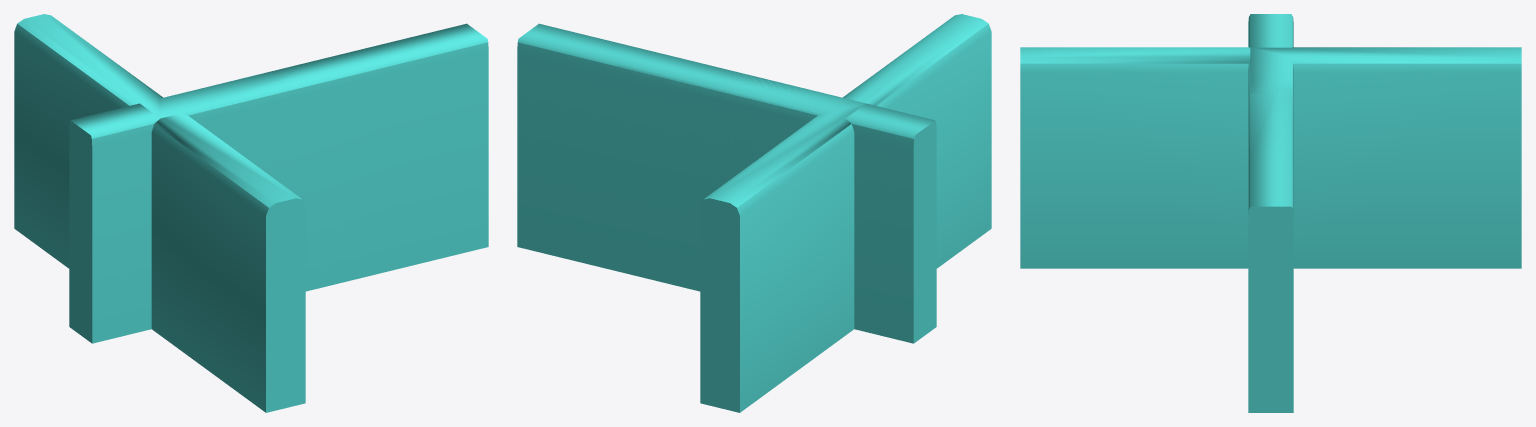
The model's file is fence0.fbx.
3 views of the same model, side by side, from view 1: azimuth 30°, elevation 25°; view 2: azimuth 150°, elevation 25°; view 3: azimuth 270°, elevation 25° (orthographic).
Visible parts, largest first — view 1: Cube.001, Cube, Cube.002; view 2: Cube, Cube.002, Cube.001; view 3: Cube.001, Cube.002, Cube.
Boxes of the visible parts, x1,y1,x2,y2 form: Cube.001: (151, 48, 389, 412); Cube: (69, 23, 488, 343); Cube.002: (14, 14, 387, 290); Cube: (517, 23, 936, 343); Cube.002: (616, 67, 865, 412); Cube.001: (616, 14, 991, 290); Cube.001: (1020, 47, 1293, 268); Cube.002: (1248, 47, 1521, 268); Cube: (1248, 14, 1293, 412).
Size of the model in its own units: 200 by 100 by 220.
